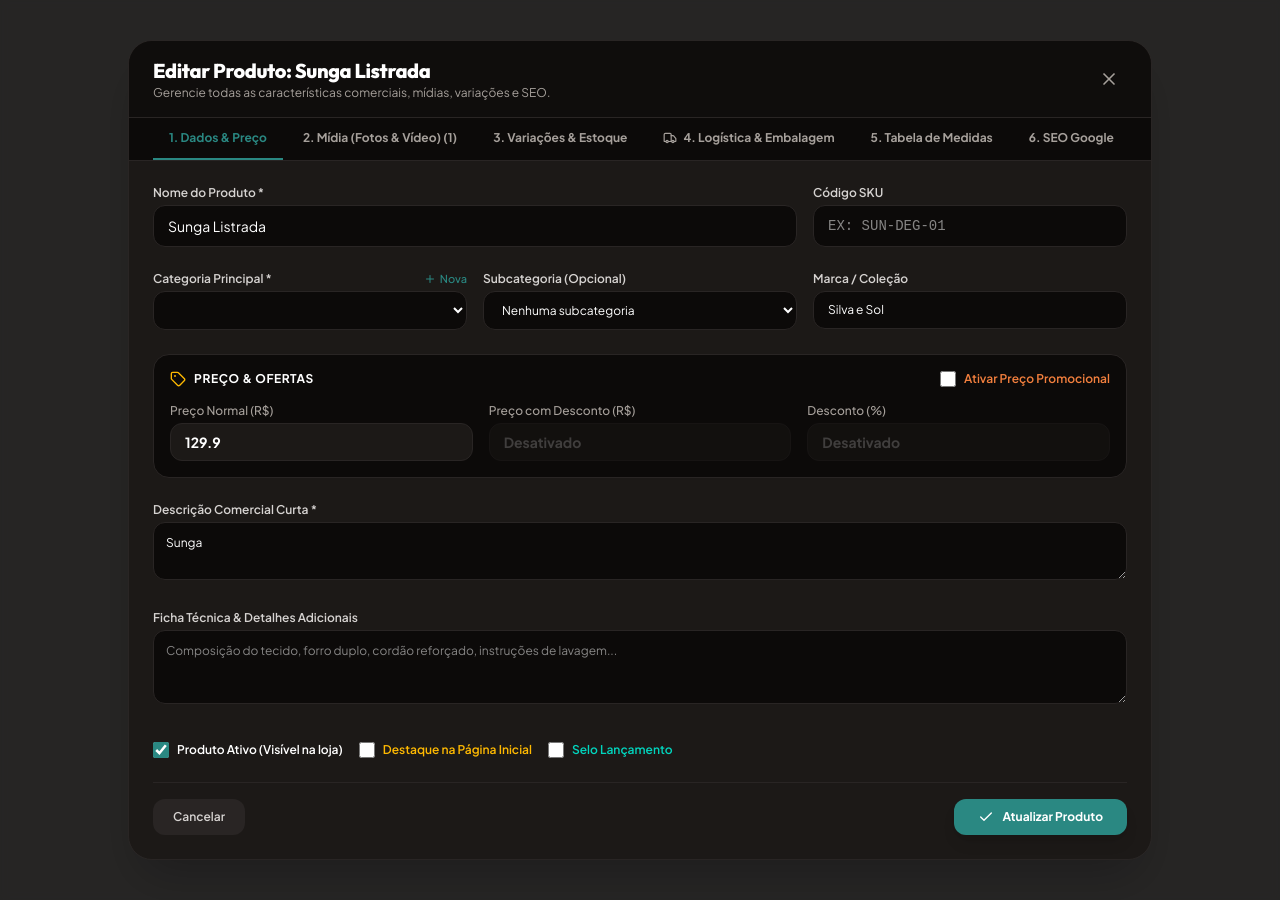
it: AdminProductModal - desconto em % › digitar o preço promocional atualiza o %
Click the checkbox labelled "Ativar Preço Promocional" at coordinates (948, 379), box [940,371,956,387]
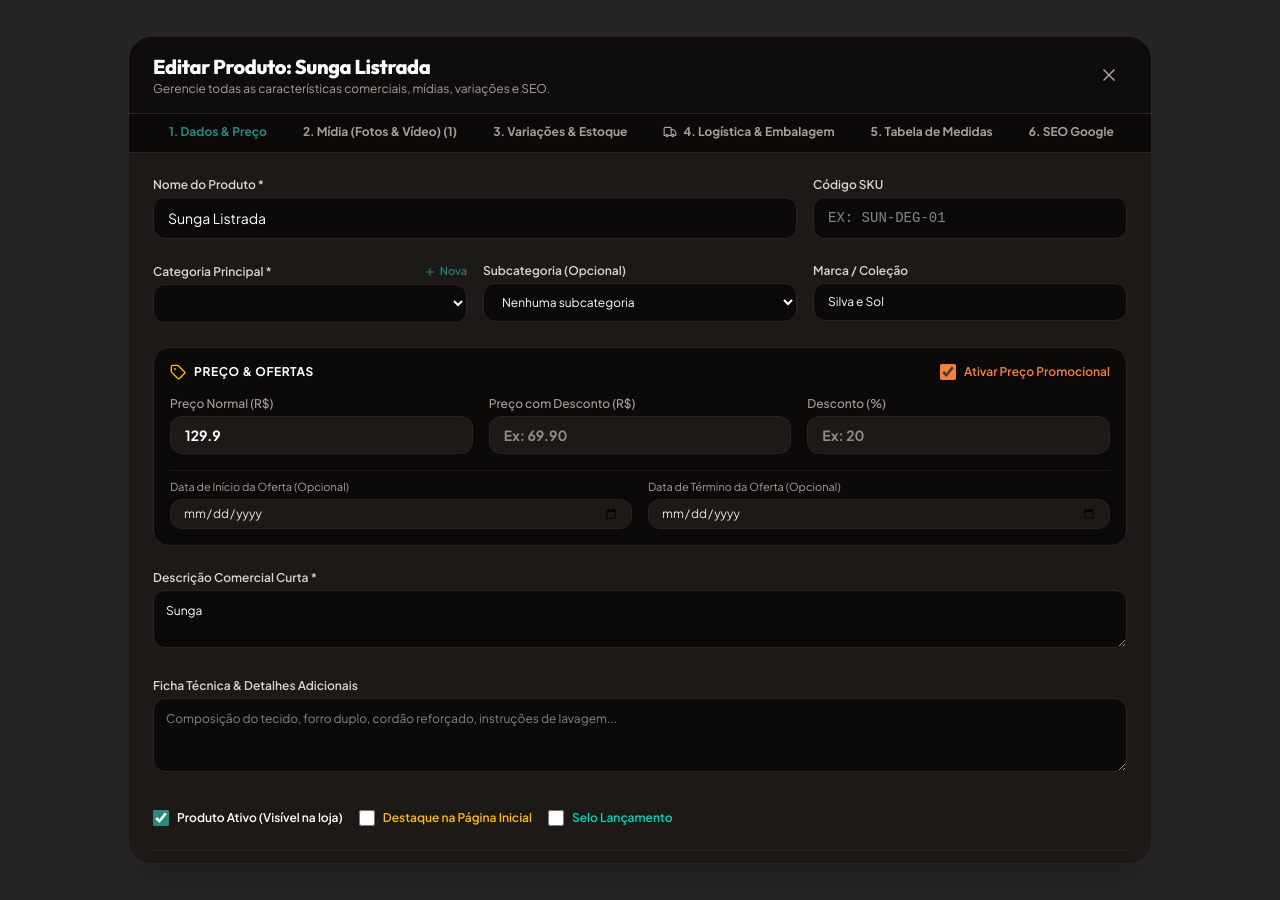
Type "99.9" into the number field labelled "Preço com Desconto (R$)" at coordinates (640, 435), box [489,416,791,454]
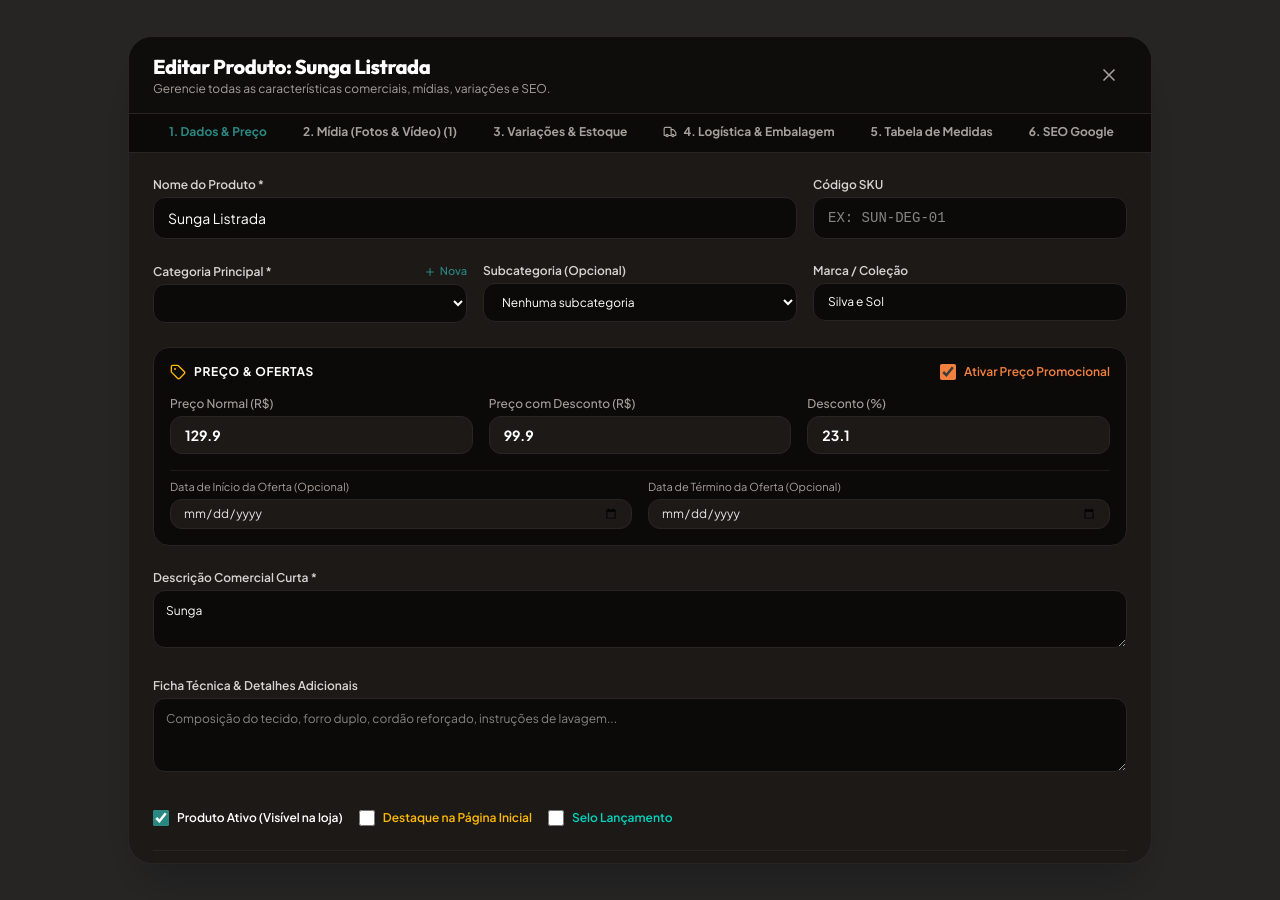
Result: the field labelled "Desconto (%)" holds "23.1" at [807,416,1110,454]
